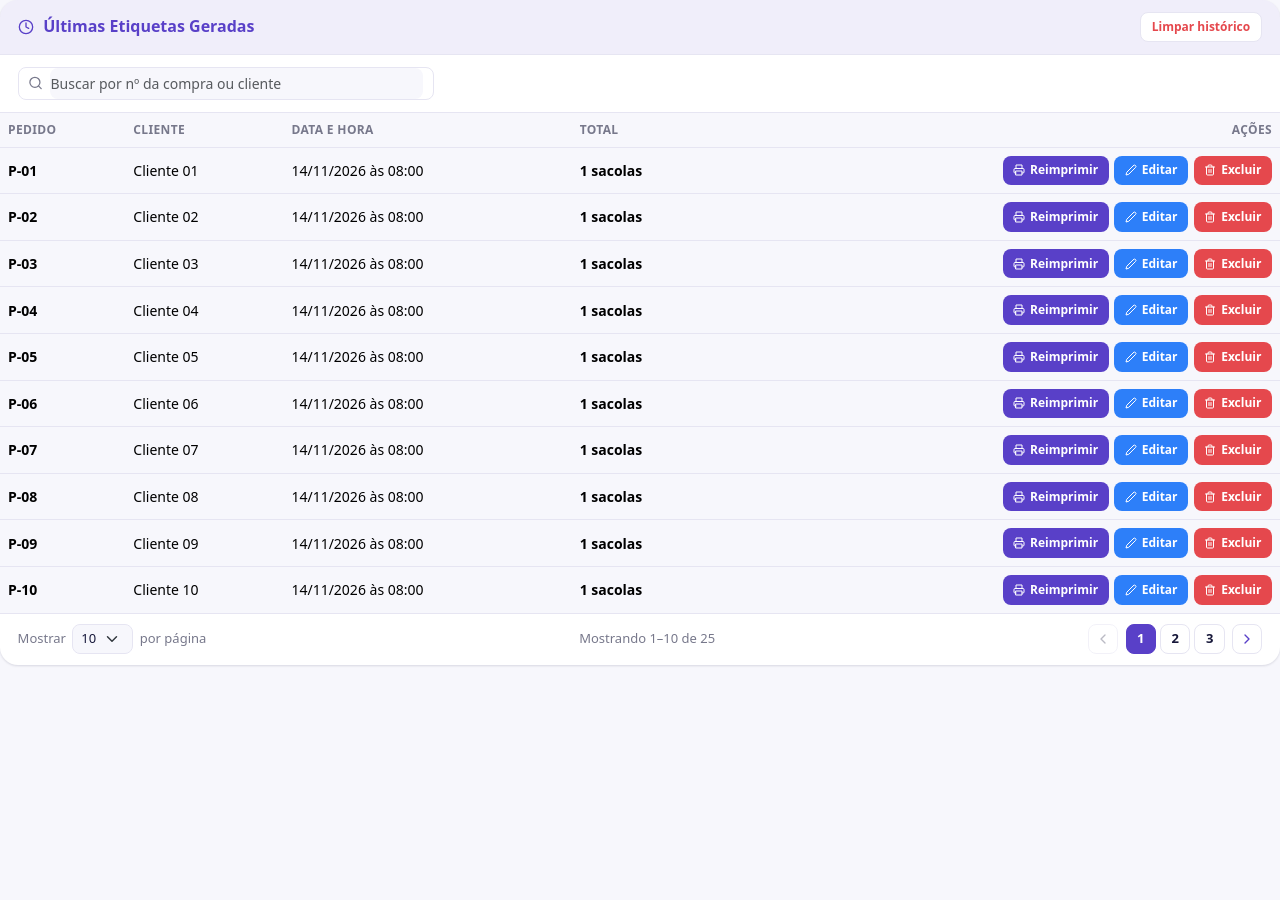
HistoryTable — paginação › navega entre páginas pelos atalhos numerados
The image size is (1280, 900).
Click the button named "Página 3".
click(1210, 639)  # box [1194,624,1225,654]
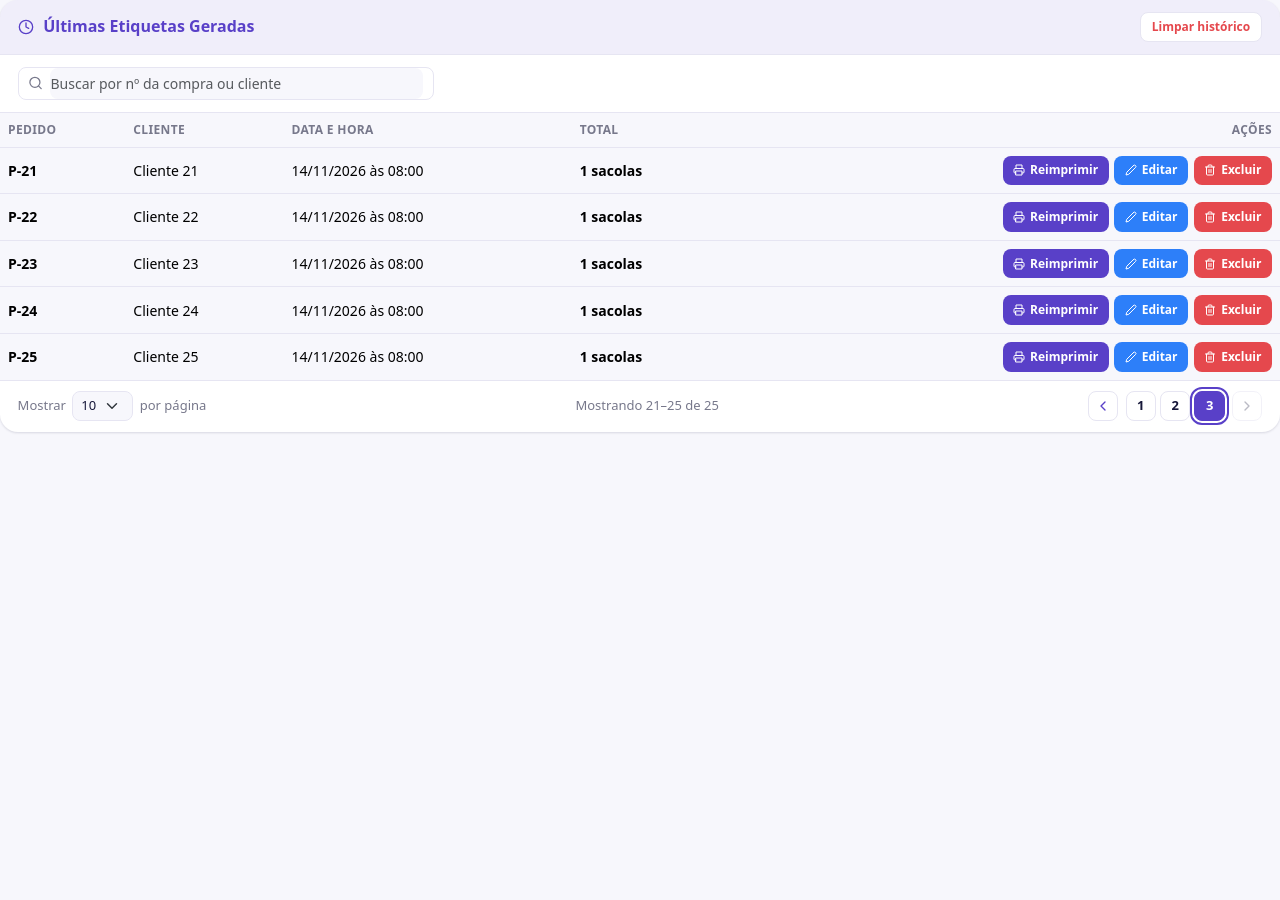
Check: the text "Mostrando 21–25 de 25" is shown, box [576,396,719,416]
